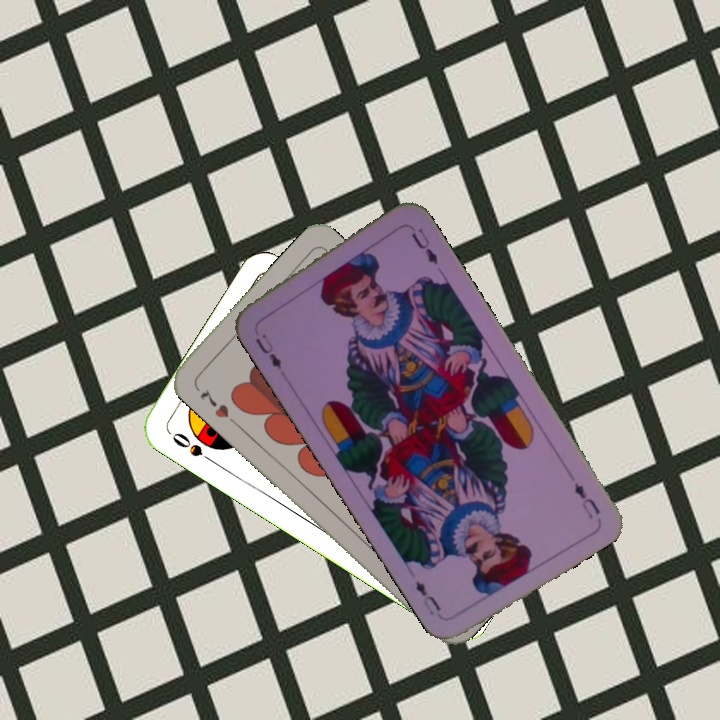EU: (570, 478, 603, 521), (251, 330, 284, 372)
H7: (196, 384, 232, 421)
SO: (167, 428, 217, 466)
